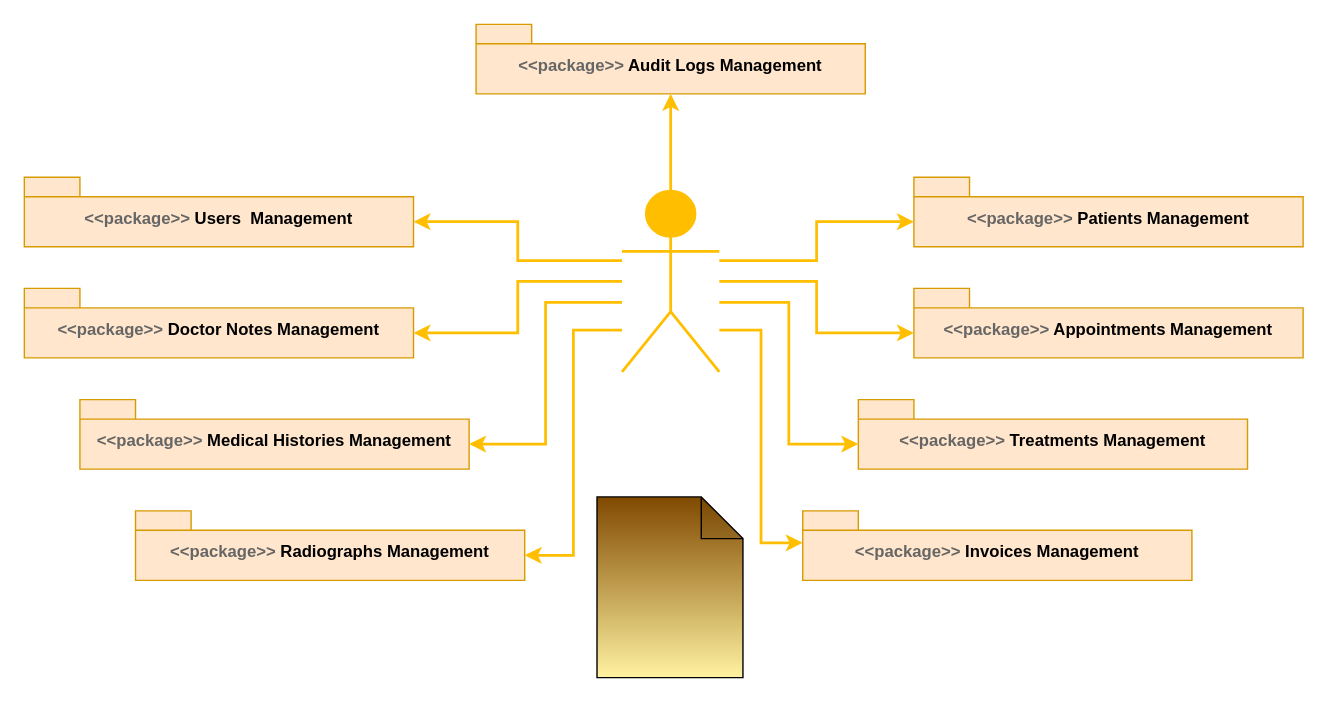
This 1327x702 diagram has some shape labels left out. Each missing label, with the centre of its shape:
"Admin" goes at [670,281].
"Admin has full system privileges (all Use Cases)." goes at [669,587].
